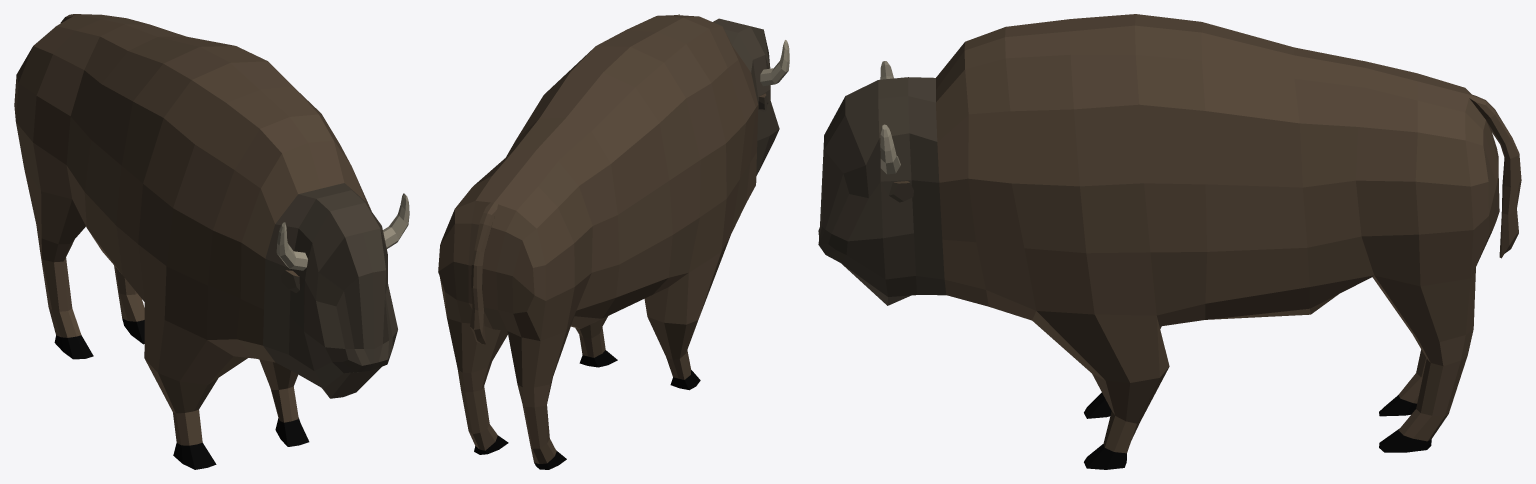
File: bison.gltf
The picture shows the model from 3 angles, left to right: view 1: azimuth 30°, elevation 25°; view 2: azimuth 150°, elevation 25°; view 3: azimuth 270°, elevation 25°; orthographic projection. The views are drawn at different scales.
Parts seen in each view (by area): view 1: 04bizonFinal; view 2: 04bizonFinal; view 3: 04bizonFinal.
Boxes of the visible parts, x1=… form: 04bizonFinal: x1=14, y1=14, x2=409, y2=469; 04bizonFinal: x1=438, y1=14, x2=789, y2=469; 04bizonFinal: x1=818, y1=14, x2=1521, y2=469.
Bounding box in the file's own units: 1.16 × 2.42 × 3.74.
Materials: 1 (1 with a texture image).
